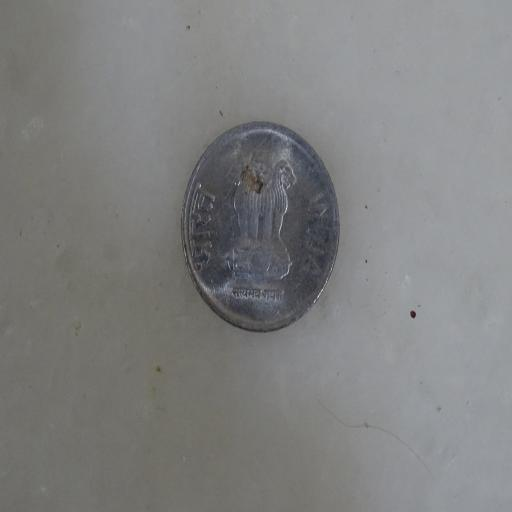rupee1: (179, 123, 340, 334)
